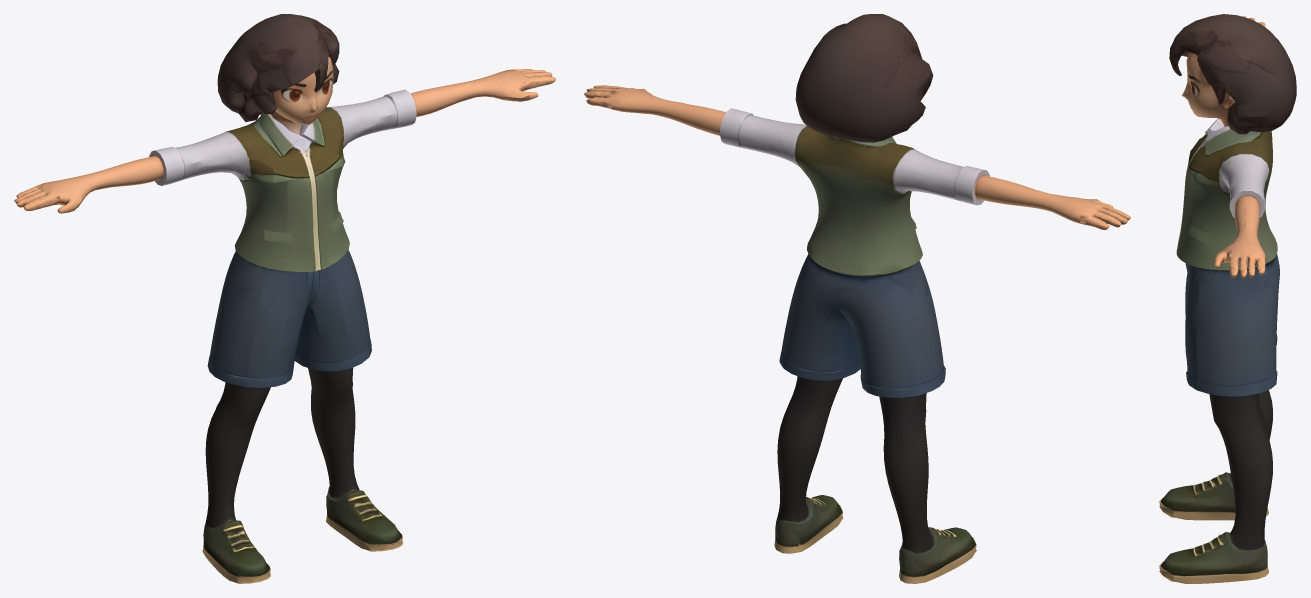
The model's file is female_special.obj.
3 views of the same model, side by side, from view 1: azimuth 30°, elevation 25°; view 2: azimuth 150°, elevation 25°; view 3: azimuth 270°, elevation 25° (orthographic).
Parts seen in each view (by area): view 1: model; view 2: model; view 3: model.
Boxes of the visible parts, left/top/right/bottom form: model: left=14, top=14, right=555, bottom=583; model: left=584, top=14, right=1130, bottom=583; model: left=1159, top=14, right=1296, bottom=583.
Bounding box in the file's own units: 1.75 × 1.65 × 0.3916.
Materials: 1 (1 with a texture image).
